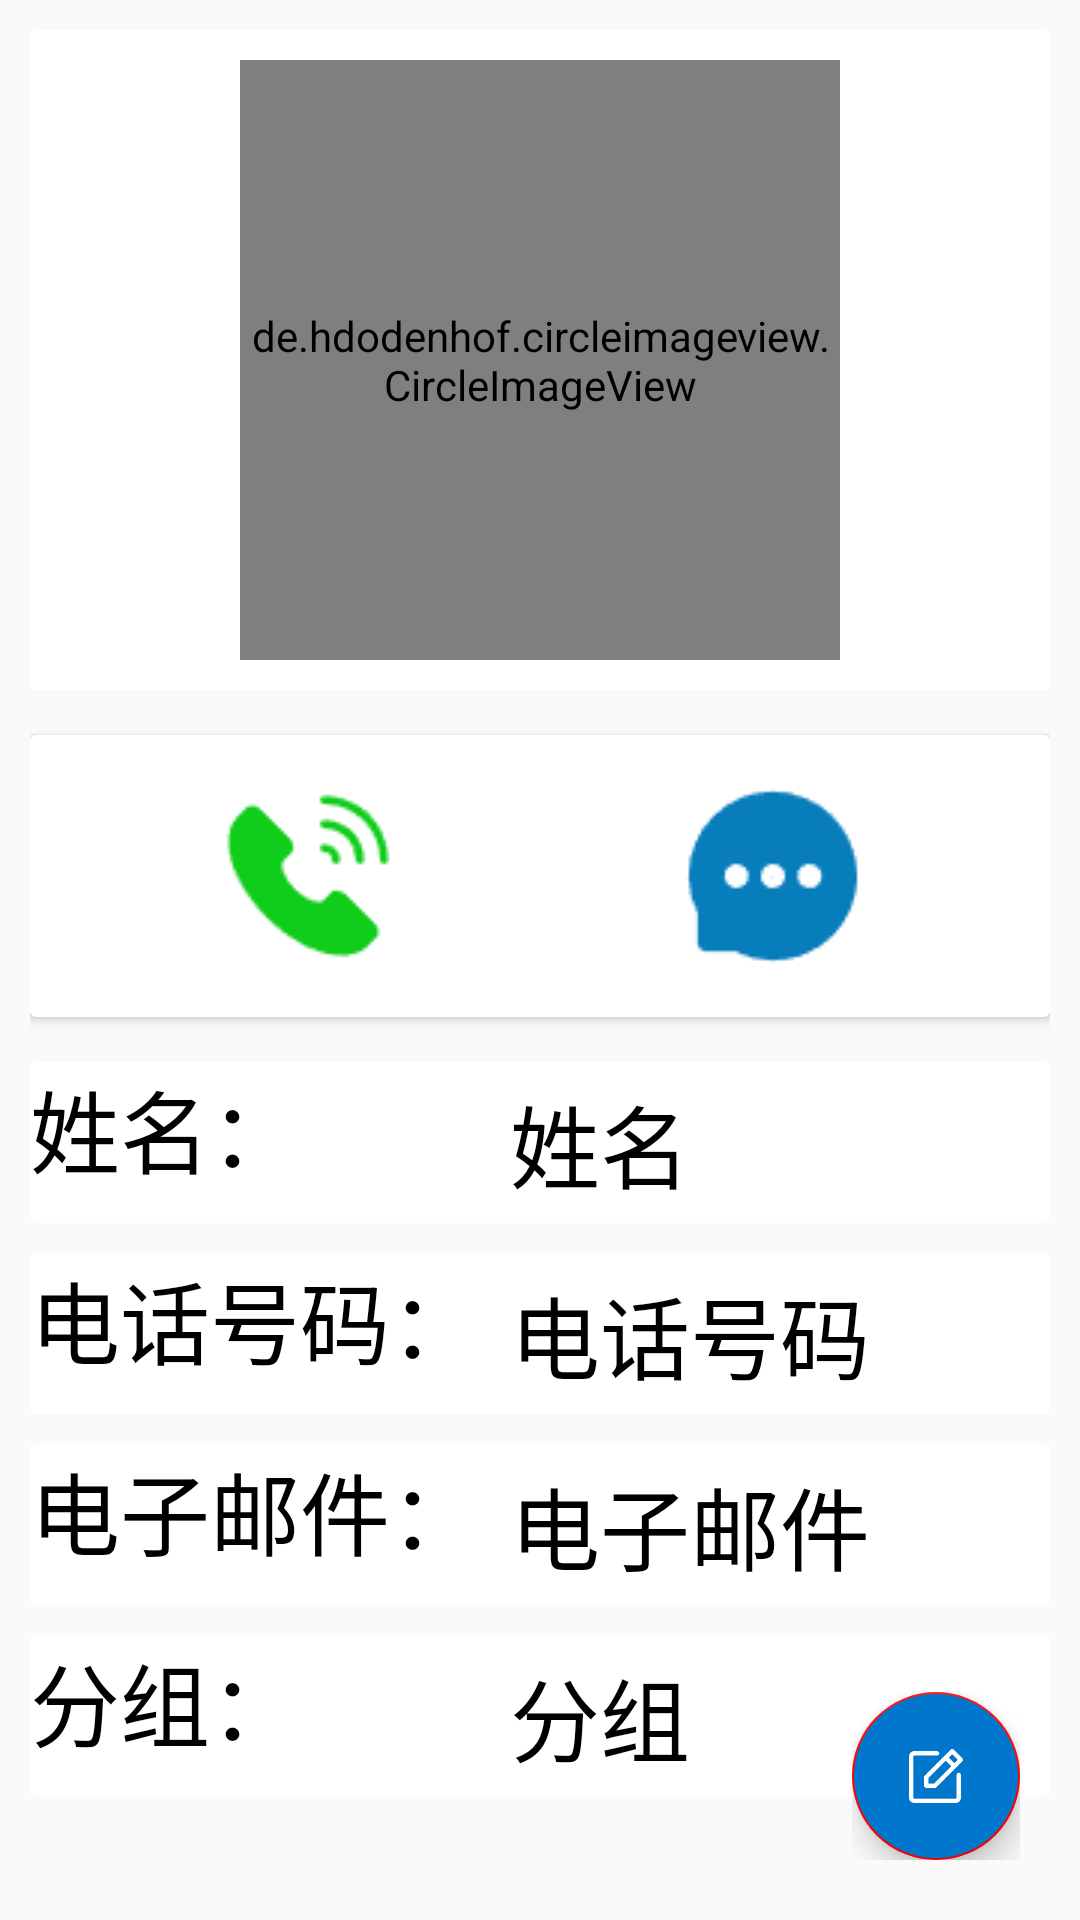

Locate icon controls on the screen. Image size 1080 × 1920, boxes as [x1,y1,x2,y2].
call: [226,794,390,958]
edit: [852,1692,1020,1860]
message: [687,790,858,962]
